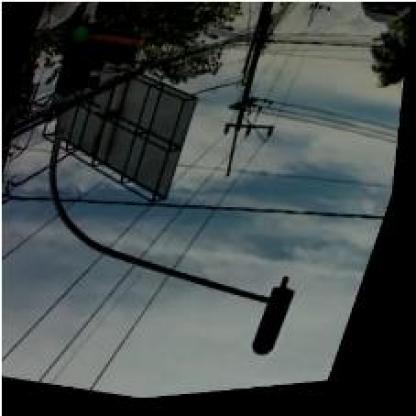green: (254, 289, 303, 366), (51, 22, 96, 99)
